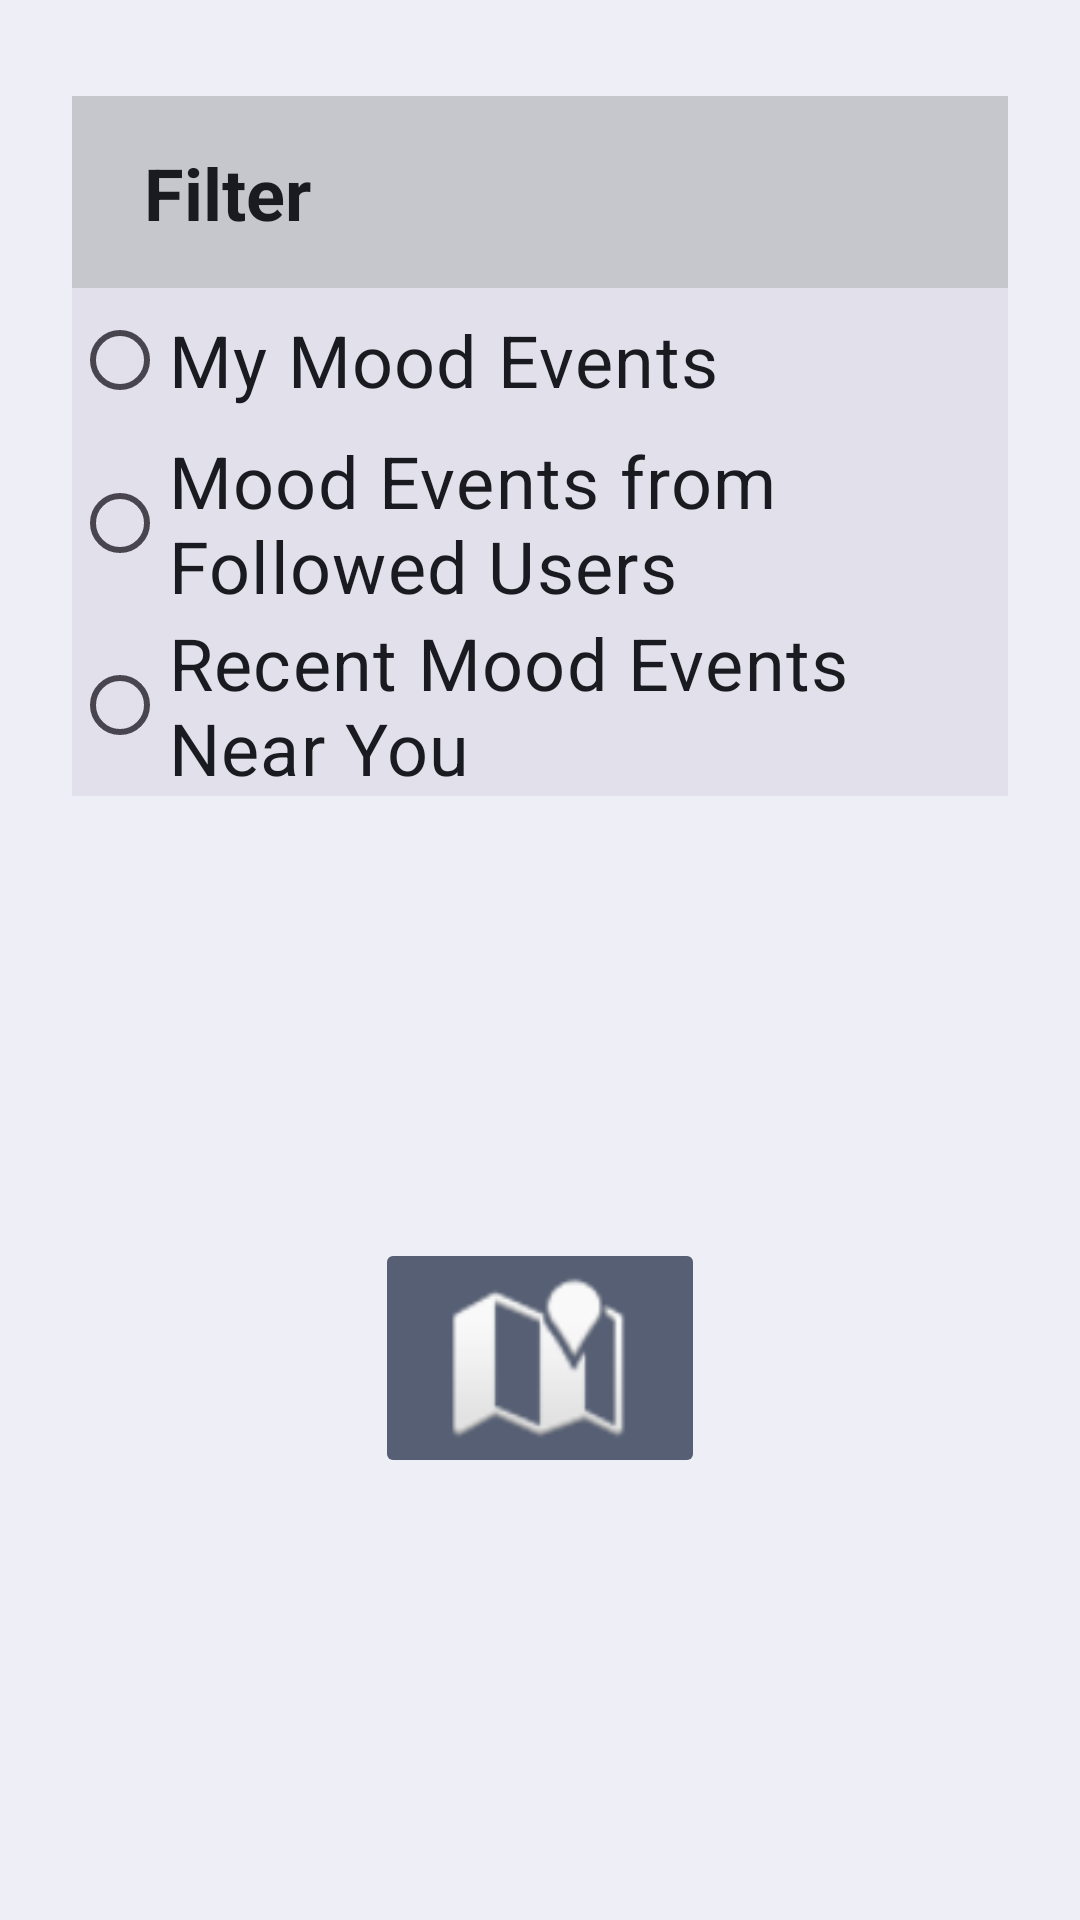

Icons on this 1080px×1920px Android screen, each with its box as (x1,y1,x2,y2):
map: (387,1256,693,1460)
